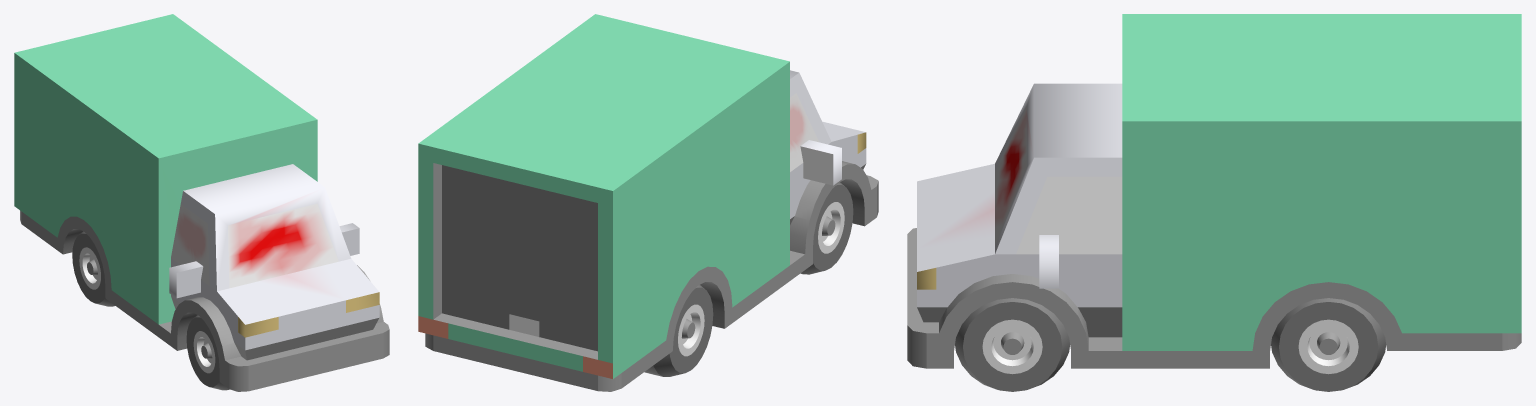
Rendered from Van.glb.
The picture shows the model from 3 angles, left to right: view 1: azimuth 30°, elevation 25°; view 2: azimuth 150°, elevation 25°; view 3: azimuth 270°, elevation 25°; orthographic projection. The views are drawn at different scales.
Parts seen in each view (by area): view 1: delivery; view 2: delivery; view 3: delivery.
Boxes of the visible parts, bbox=[...] form: delivery: bbox=[14, 14, 389, 391]; delivery: bbox=[418, 14, 878, 391]; delivery: bbox=[907, 14, 1521, 391].
Size of the model in its own units: 1.5 by 1.6 by 3.15.
